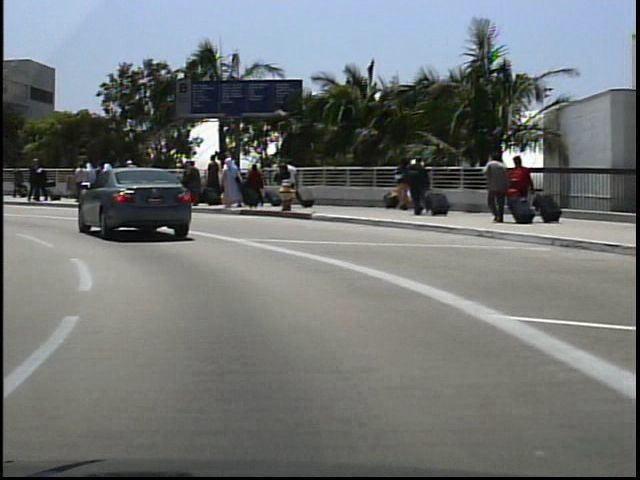person: (479, 151, 508, 224), (504, 155, 533, 223), (398, 155, 429, 217), (31, 159, 55, 209), (280, 156, 302, 206), (25, 157, 44, 202), (11, 164, 27, 202)
